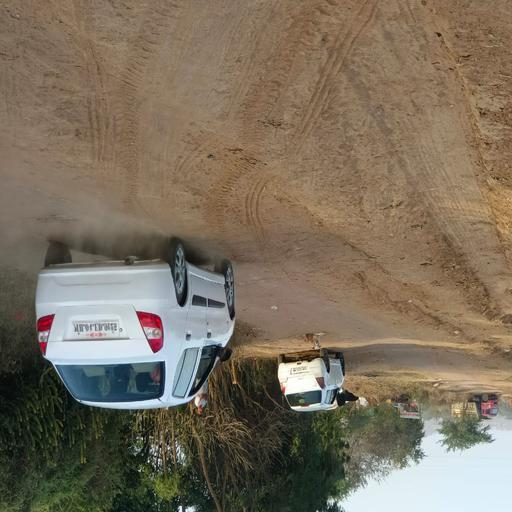vehicle_track: (0, 0, 417, 301), (304, 0, 512, 317), (169, 0, 382, 280), (67, 0, 195, 218), (235, 262, 451, 371)
